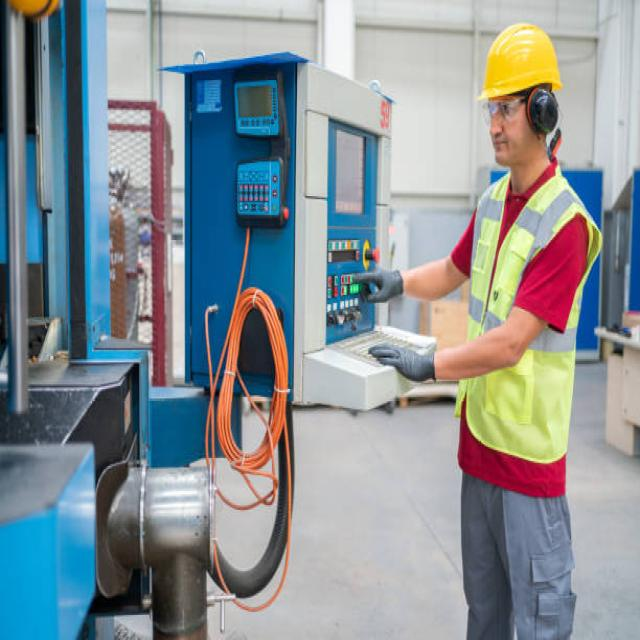Gloves: (370, 336, 440, 386), (352, 259, 406, 308)
Vest: (452, 163, 605, 468)
helmet: (474, 22, 564, 102)
person: (350, 20, 606, 640)
